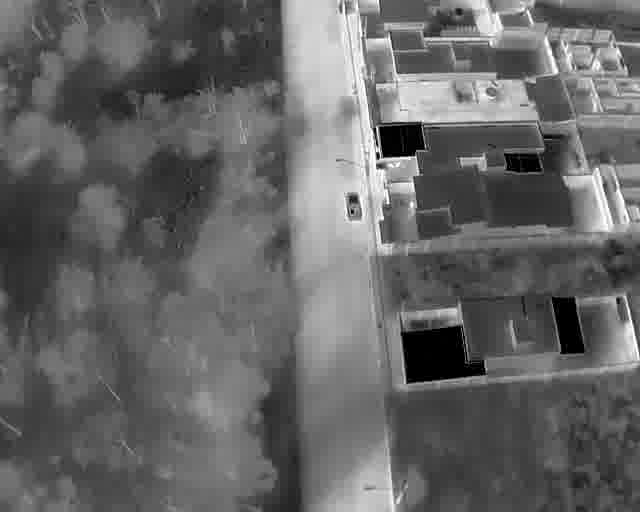car: (345, 190, 362, 221)
